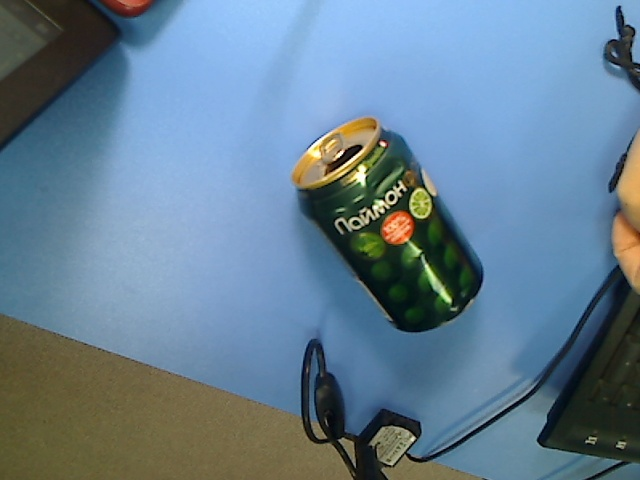can: (288, 115, 487, 336)
